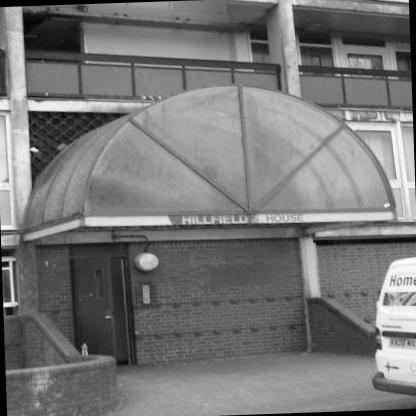truck: (352, 251, 416, 410)
